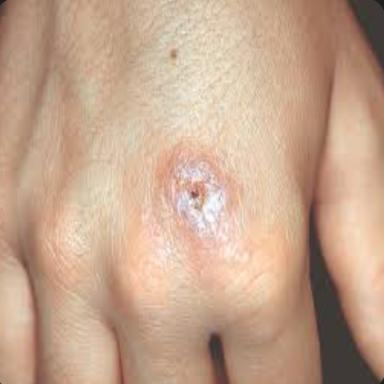Leishmanios: (165, 143, 239, 239)
